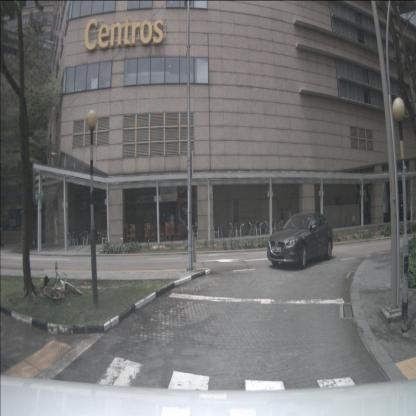human-pedestrian-adult: (169, 211, 175, 238), (288, 206, 292, 231)
vehicle-bicycle: (42, 261, 83, 301)
vehicle-car: (267, 212, 333, 270)
